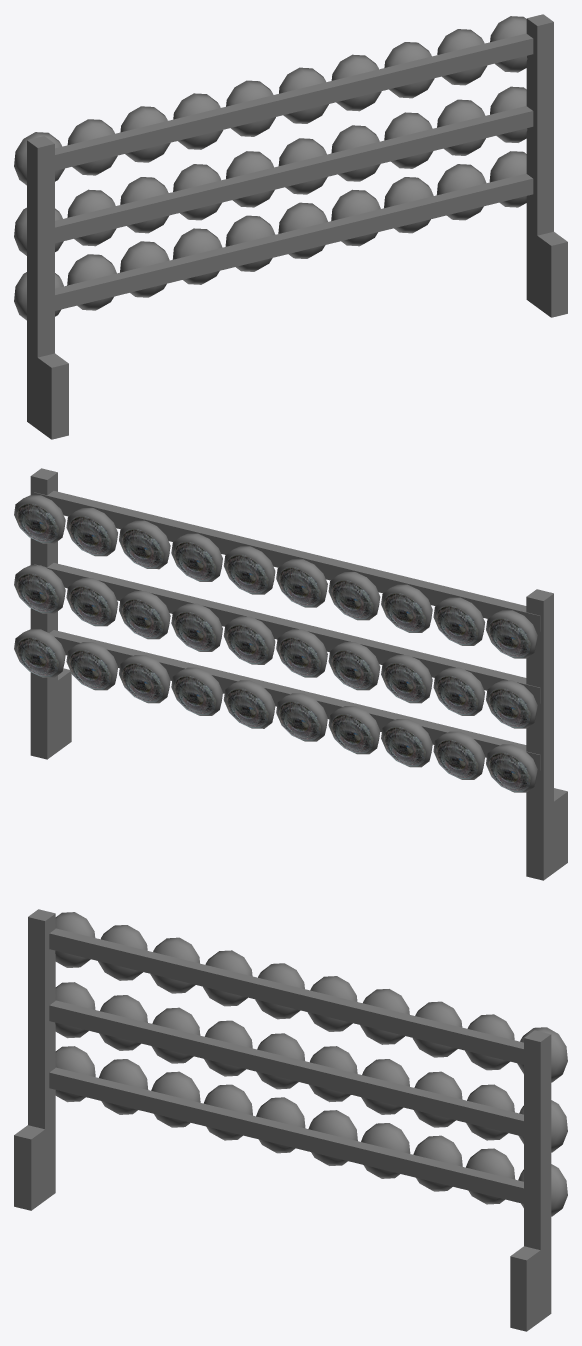
Rendered from Light_03.fbx.
3 renders of one model, top to bottom at view 1: azimuth 30°, elevation 25°; view 2: azimuth 150°, elevation 25°; view 3: azimuth 330°, elevation 25°, orthographic.
Visible parts, largest first — view 1: light_03; view 2: light_03; view 3: light_03.
Part boxes in pixels (x1=…): light_03: x1=14, y1=14, x2=567, y2=439; light_03: x1=14, y1=468, x2=567, y2=880; light_03: x1=14, y1=909, x2=567, y2=1331.
Bounding box in the file's own units: 704 × 360 × 92.68.
